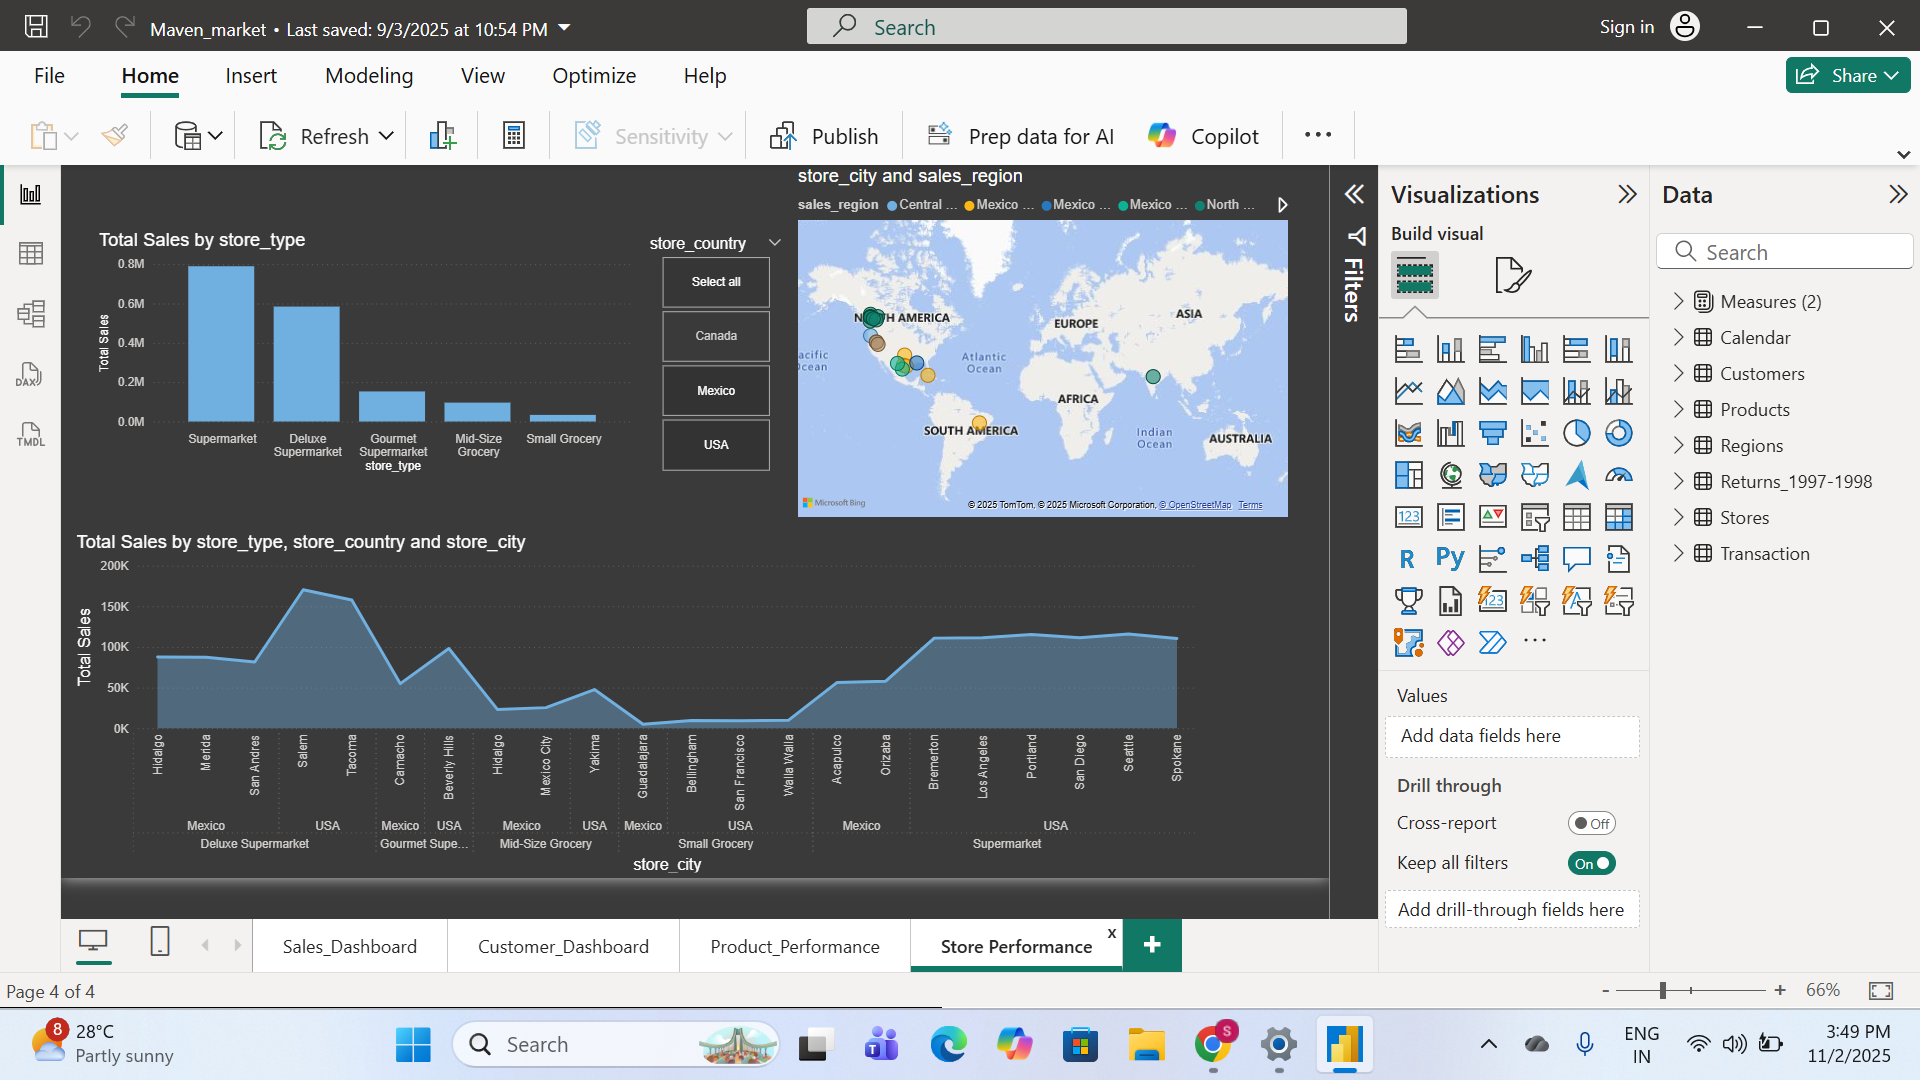

Layout of this report page (visuals, bound fields, positions):
{"tool":"powerbi","page":{"name":"Store Performance","canvas":[1280,720],"ordinal":3},"visuals":[{"type":"clusteredColumnChart","fields":{"Category":["Stores.store_type"],"Y":["Measures (2).Total Sales"]},"box":[33.3,65.1,548.1,249.8],"z":0},{"type":"stackedAreaChart","fields":{"Category":["Stores.store_type","Stores.store_country","Stores.store_city"],"Y":["Measures (2).Total Sales"]},"box":[10.6,369.5,1140.2,349.8],"z":1000},{"type":"map","fields":{"Series":["Regions.sales_region"],"Category":["Stores.store_city"]},"box":[738.9,0,504.2,360.4],"z":2000},{"type":"slicer","fields":{"Values":["Stores.store_country"]},"box":[581,65,158,250],"z":2001}]}

Visuals, with their boxes on the page's 1280x720 design canvas (x1, y1, x2, y2). These are canvas units, not pixel positions in the 1920x1080 screenshot, which may show the page scaled, cropped or inside an application window:
clusteredColumnChart - Stores.store_type x Measures (2).Total Sales: rect(33, 65, 581, 315)
stackedAreaChart - Stores.store_type x Stores.store_country: rect(11, 370, 1151, 719)
map - Regions.sales_region x Stores.store_city: rect(739, 0, 1243, 360)
slicer - Stores.store_country: rect(581, 65, 739, 315)
